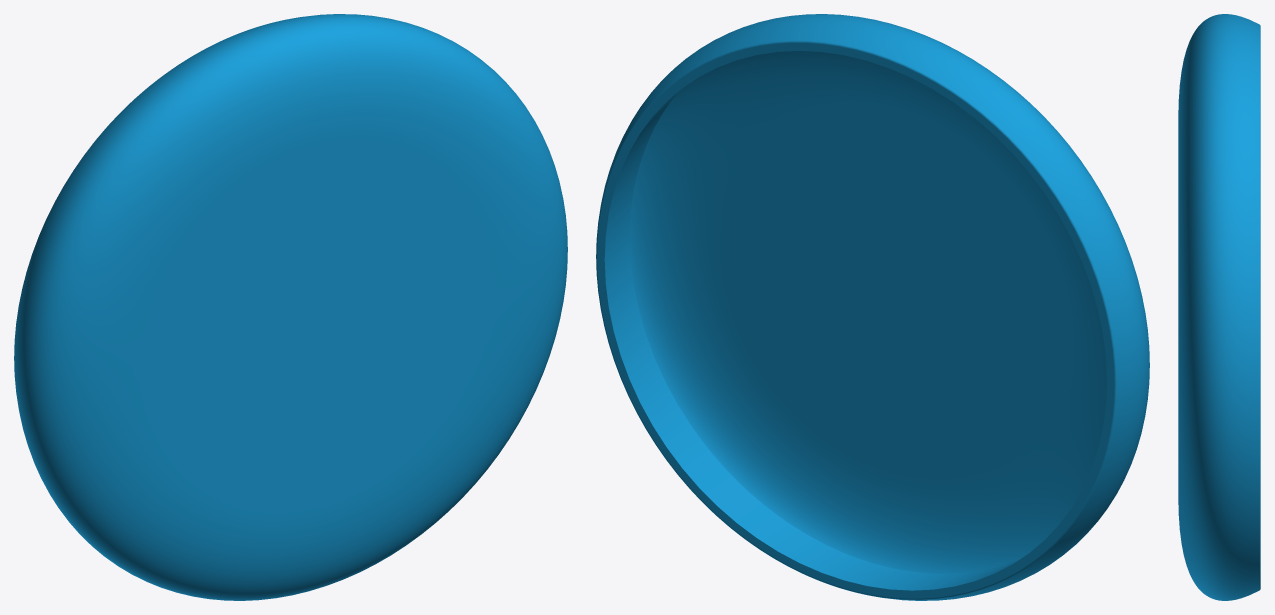
The model's file is Frisbee og.gltf.
3 renders of one model, left to right at view 1: azimuth 30°, elevation 25°; view 2: azimuth 150°, elevation 25°; view 3: azimuth 270°, elevation 25°, orthographic. The views are drawn at different scales.
Visible parts, largest first — view 1: mesh2_meshnode_2, mesh3_meshnode_3; view 2: mesh4_meshnode_4, mesh5_meshnode_5, mesh2_meshnode_2, mesh0_meshnode_0, mesh1_meshnode_1, mesh6_meshnode_6; view 3: mesh2_meshnode_2, mesh6_meshnode_6.
Part boxes in pixels (bbox=[...]): mesh2_meshnode_2: bbox=[14, 14, 567, 600]; mesh3_meshnode_3: bbox=[144, 140, 490, 512]; mesh4_meshnode_4: bbox=[722, 105, 1068, 477]; mesh5_meshnode_5: bbox=[629, 51, 1106, 573]; mesh2_meshnode_2: bbox=[599, 14, 1149, 600]; mesh0_meshnode_0: bbox=[604, 92, 1019, 590]; mesh1_meshnode_1: bbox=[597, 43, 1114, 598]; mesh6_meshnode_6: bbox=[596, 40, 1116, 599]; mesh2_meshnode_2: bbox=[1178, 14, 1259, 600]; mesh6_meshnode_6: bbox=[1259, 24, 1260, 590].
Bounding box in the file's own units: 0.2495 × 0.2494 × 0.035.
